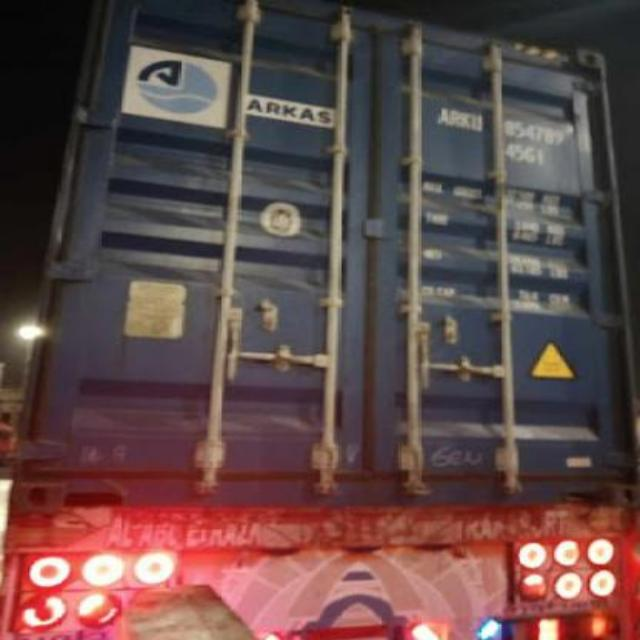4: (524, 123, 538, 141)
5: (516, 120, 524, 140)
7: (534, 122, 544, 142)
8: (544, 127, 554, 147), (506, 118, 514, 138)
9: (556, 129, 564, 145)
A: (436, 106, 448, 128)
K: (460, 111, 472, 129)
R: (450, 108, 462, 128)
U: (472, 111, 484, 132)
